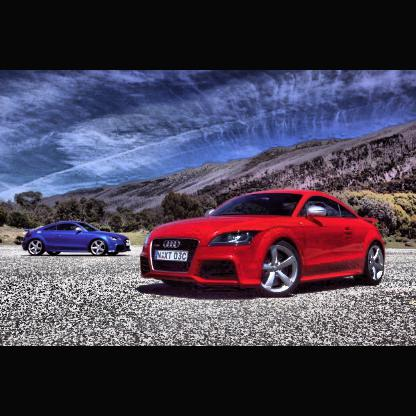Audi TT RS Coupe 2012: (139, 188, 387, 298)
